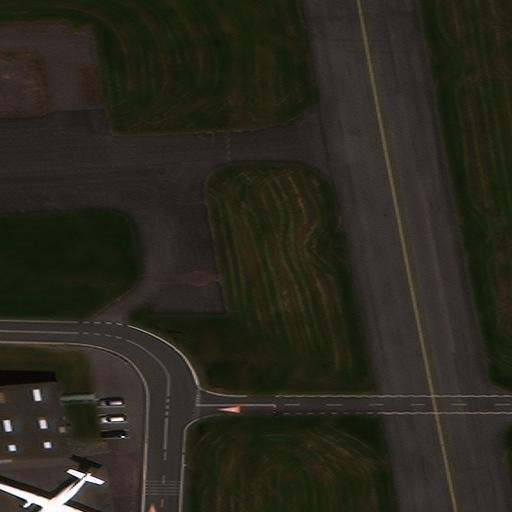Medium Civil Transport: (0, 472, 105, 512)
